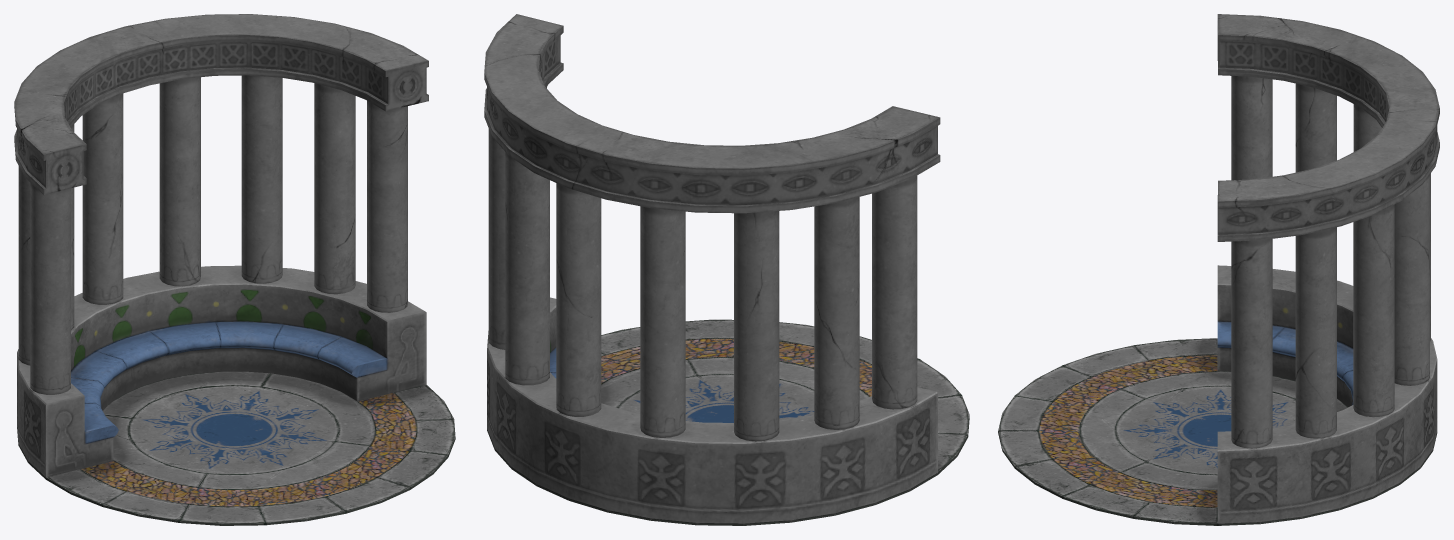
The model's file is sb_obj_outdoor013_RestArea01.fbx.
3 renders of one model, left to right at view 1: azimuth 30°, elevation 25°; view 2: azimuth 150°, elevation 25°; view 3: azimuth 270°, elevation 25°, orthographic. The views are drawn at different scales.
Parts seen in each view (by area): view 1: sb_obj_outdoor013_RestArea01; view 2: sb_obj_outdoor013_RestArea01; view 3: sb_obj_outdoor013_RestArea01.
Part boxes in pixels (left/top/right/bottom): sb_obj_outdoor013_RestArea01: left=14, top=14, right=455, bottom=525; sb_obj_outdoor013_RestArea01: left=484, top=14, right=969, bottom=525; sb_obj_outdoor013_RestArea01: left=998, top=14, right=1439, bottom=525.
Bounding box in the file's own units: 6.07 × 4.9 × 6.03.
1 material, 1 textured.
